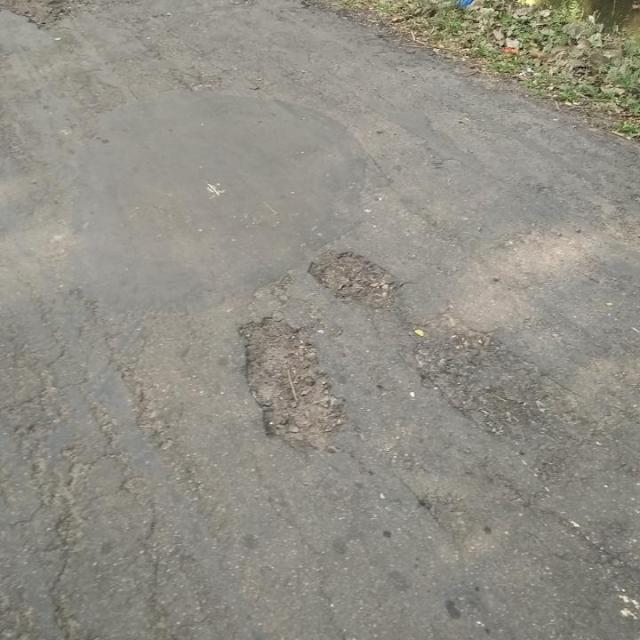pothole: (408, 312, 582, 438), (239, 311, 348, 457), (304, 248, 406, 316), (0, 0, 101, 30)
